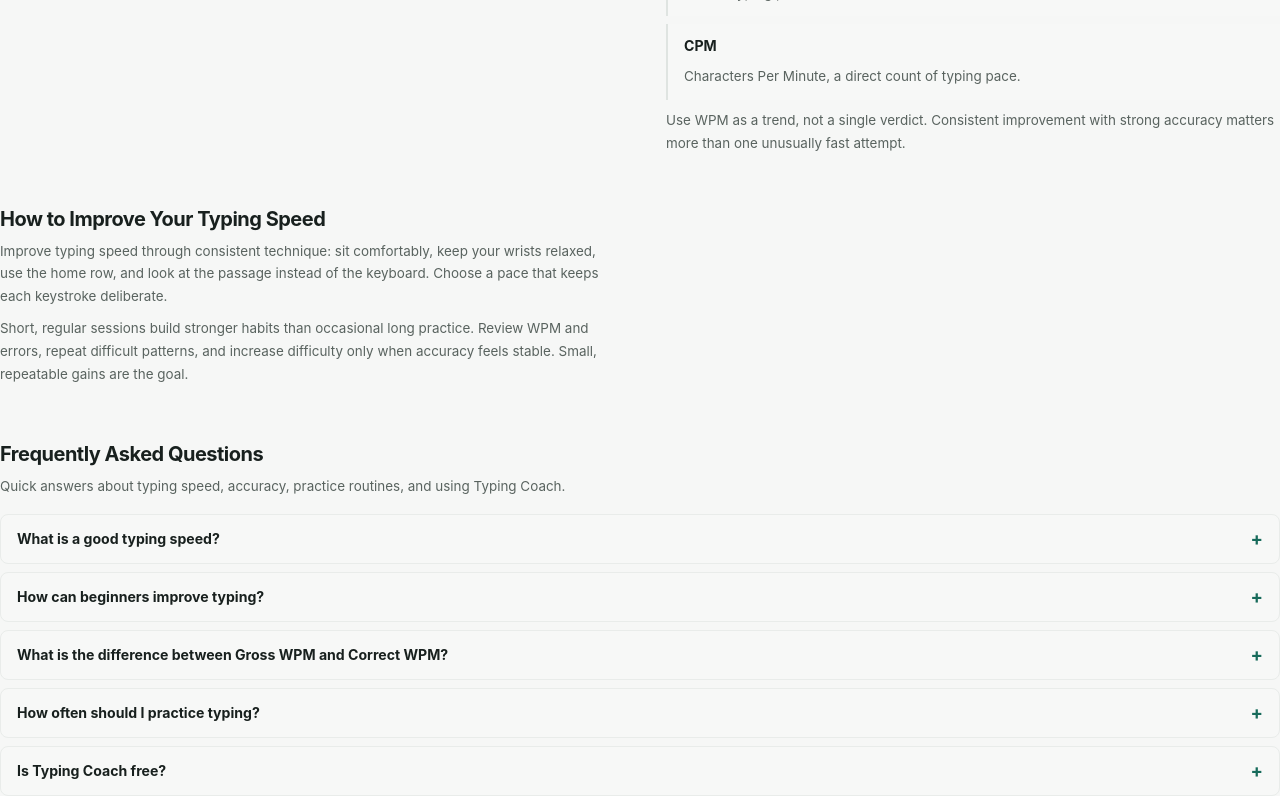
Test case: SeoContent › uses focusable native disclosures for every FAQ
(page scrolled)
Click the heading "What is a good typing speed?" at {"x": 118, "y": 538}, box x1=17 y1=530 x2=220 y2=547
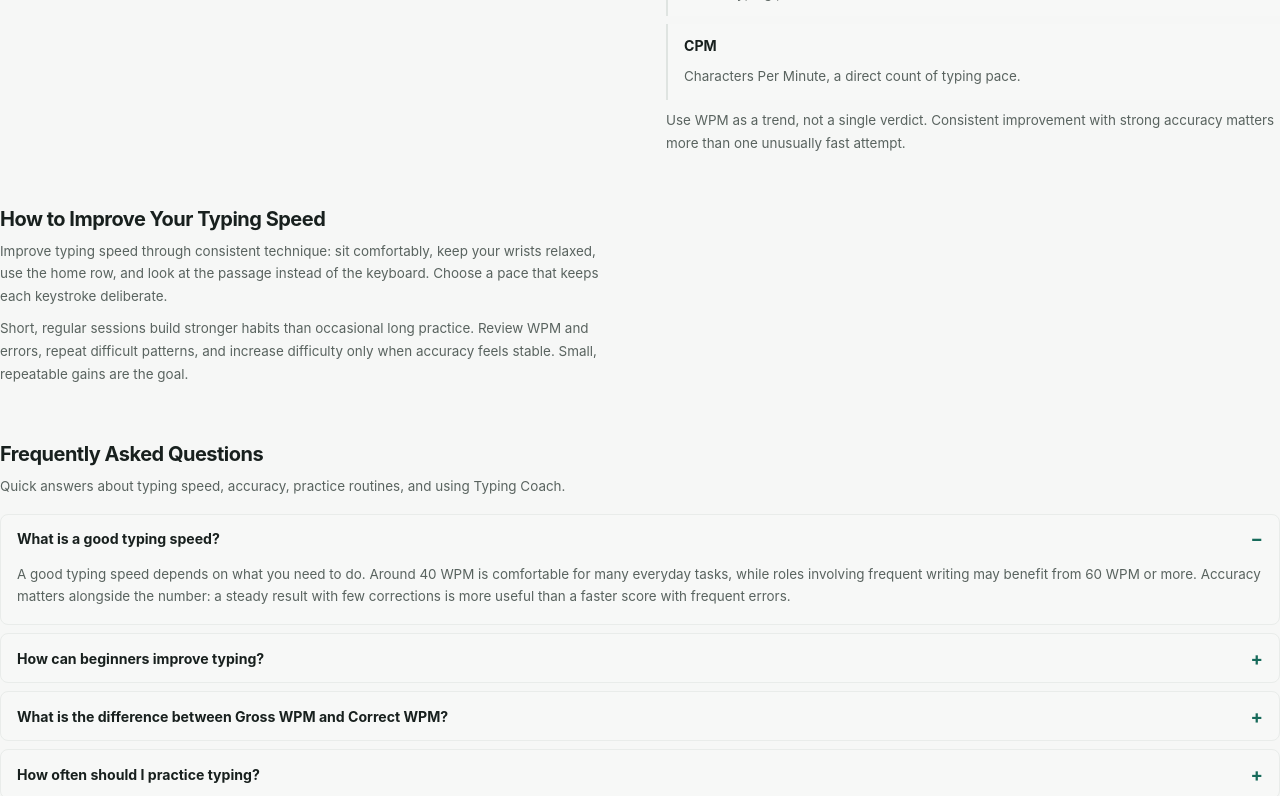
expect the element that starts with "What is a good typing speed?" shows "Around 40 WPM": met, box x1=17 y1=566 x2=1261 y2=604
